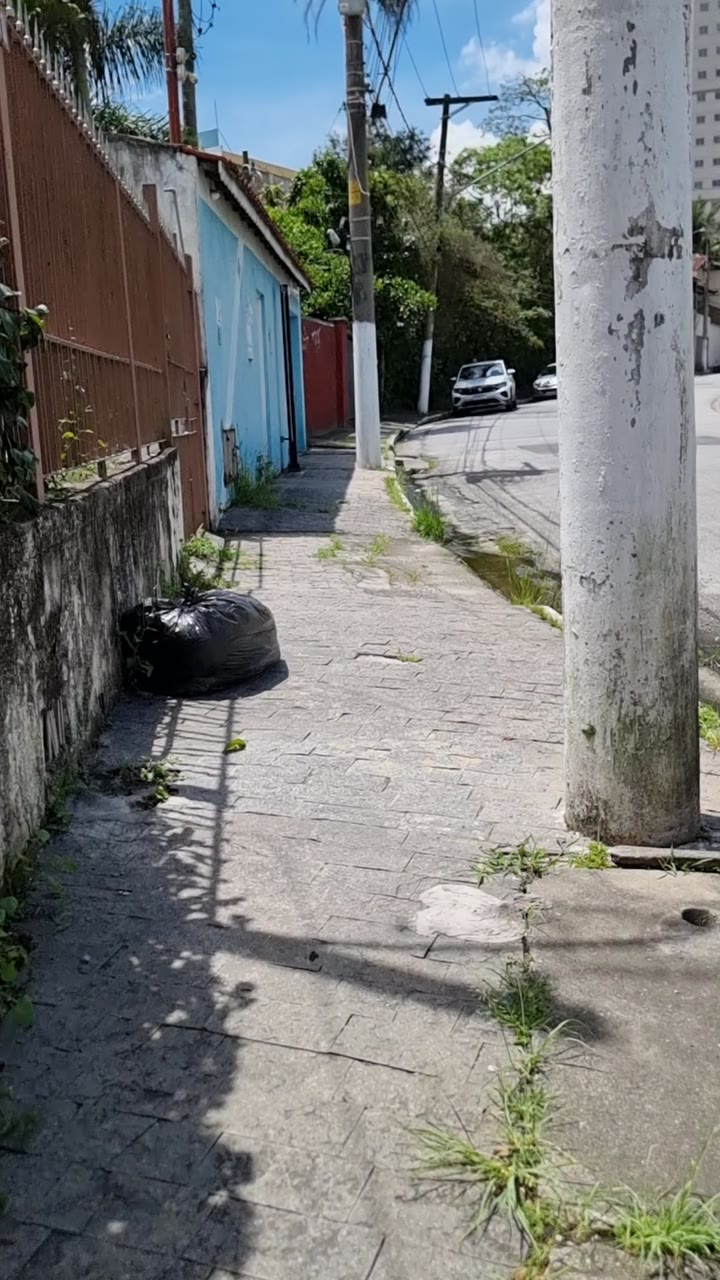obstaculo: (540, 0, 698, 858), (333, 0, 381, 468), (123, 588, 280, 696)
